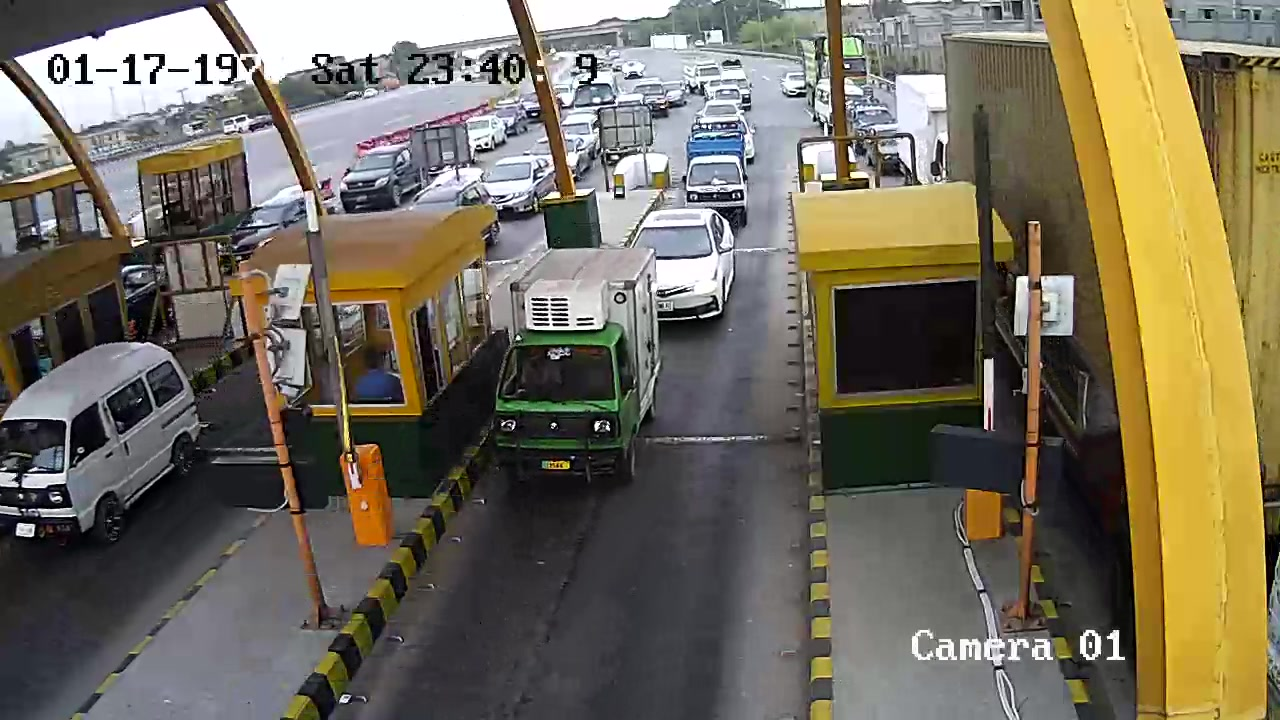F1: (487, 234, 666, 501)
